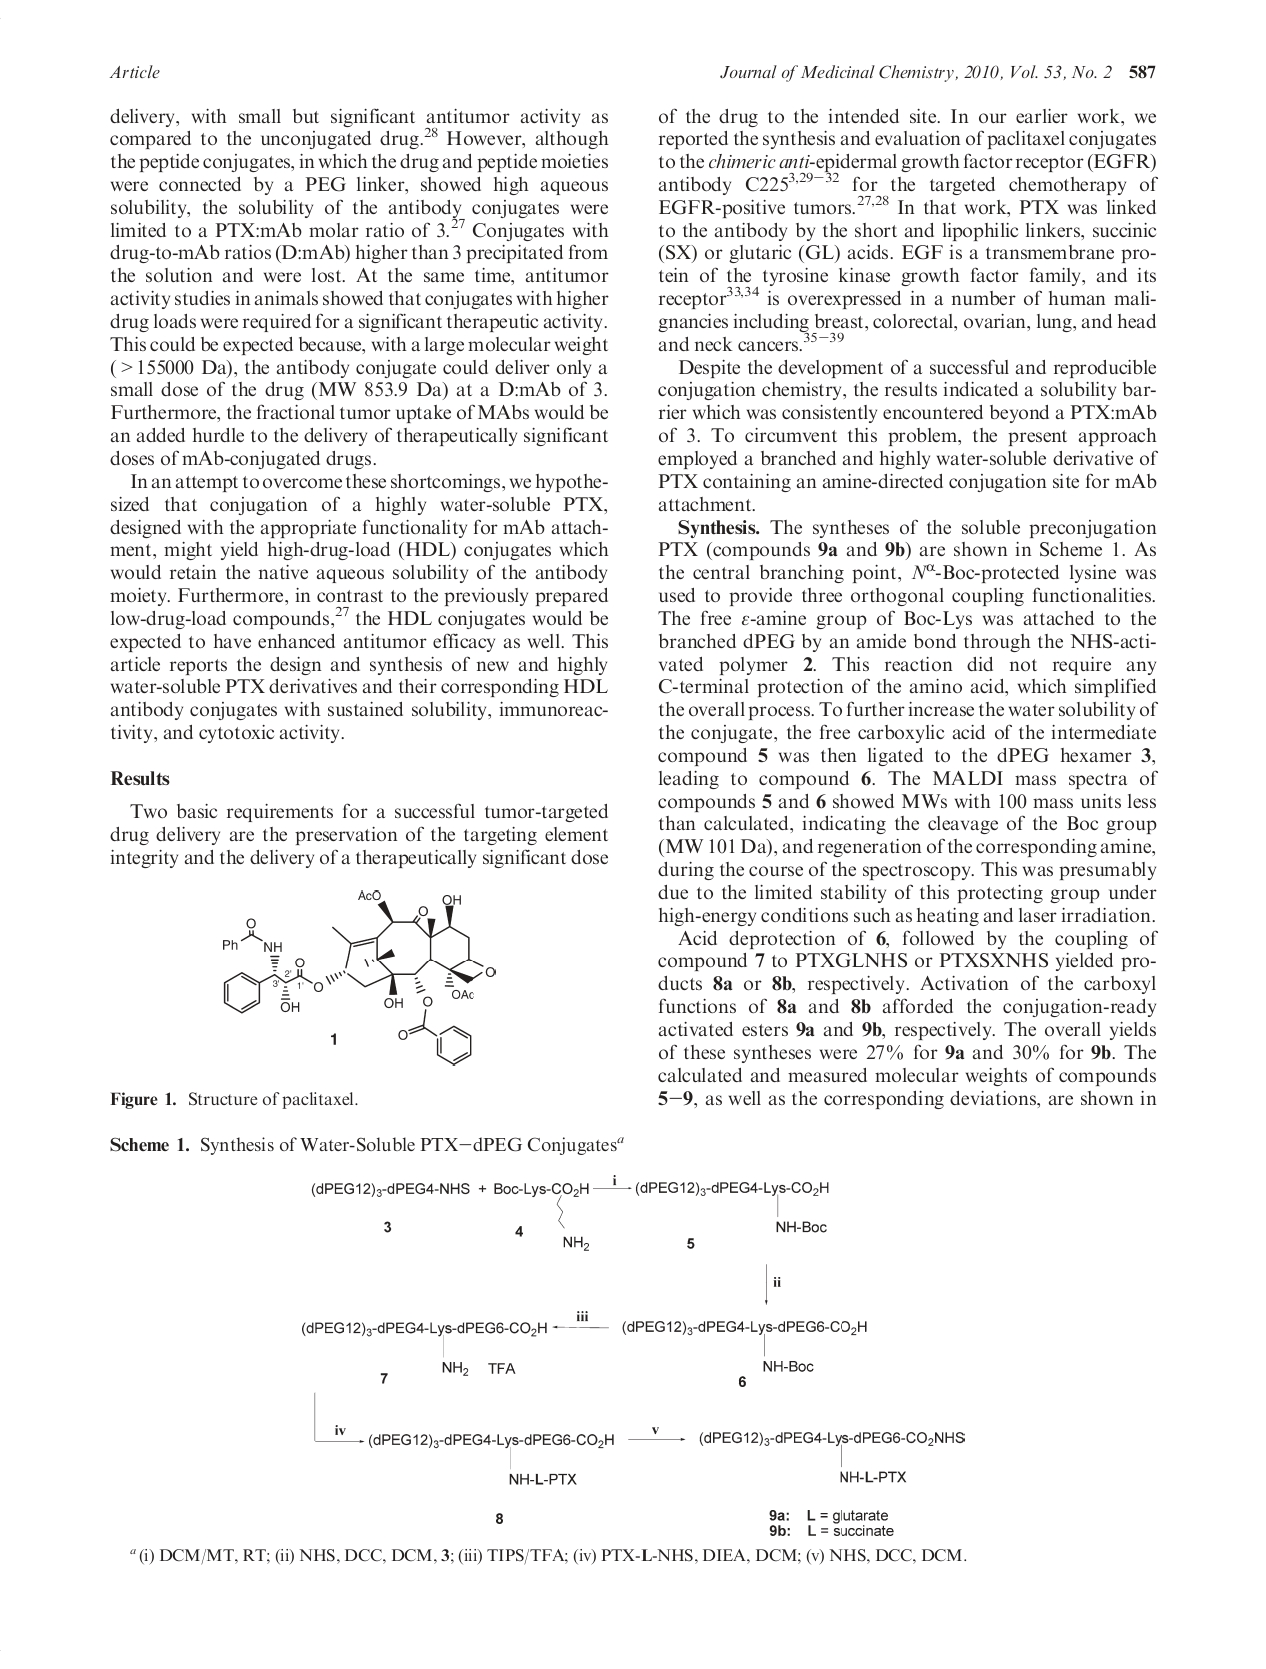exist_molecular: (221, 886, 499, 1071)
